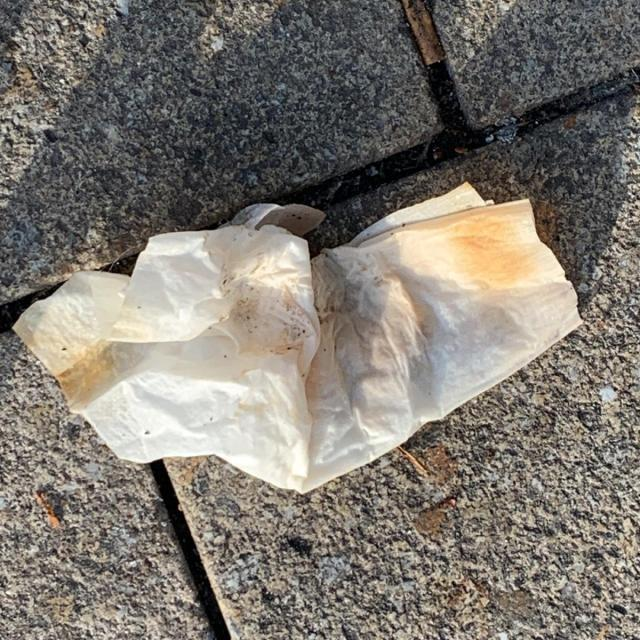Paper: (10, 177, 587, 497)
